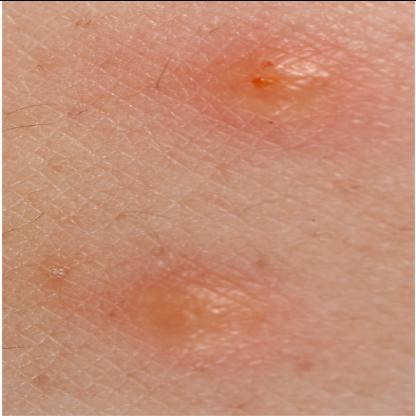Bed Bug: (136, 277, 252, 347), (224, 43, 334, 114), (28, 257, 76, 291)
